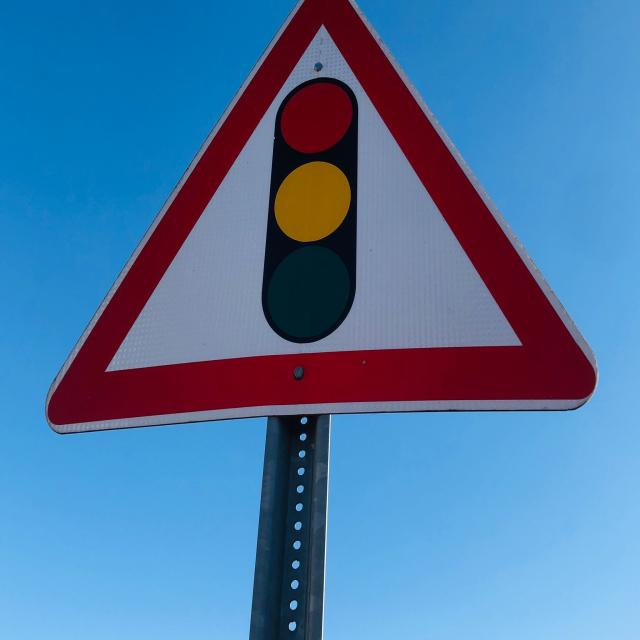light_traffic: (43, 0, 598, 425)
